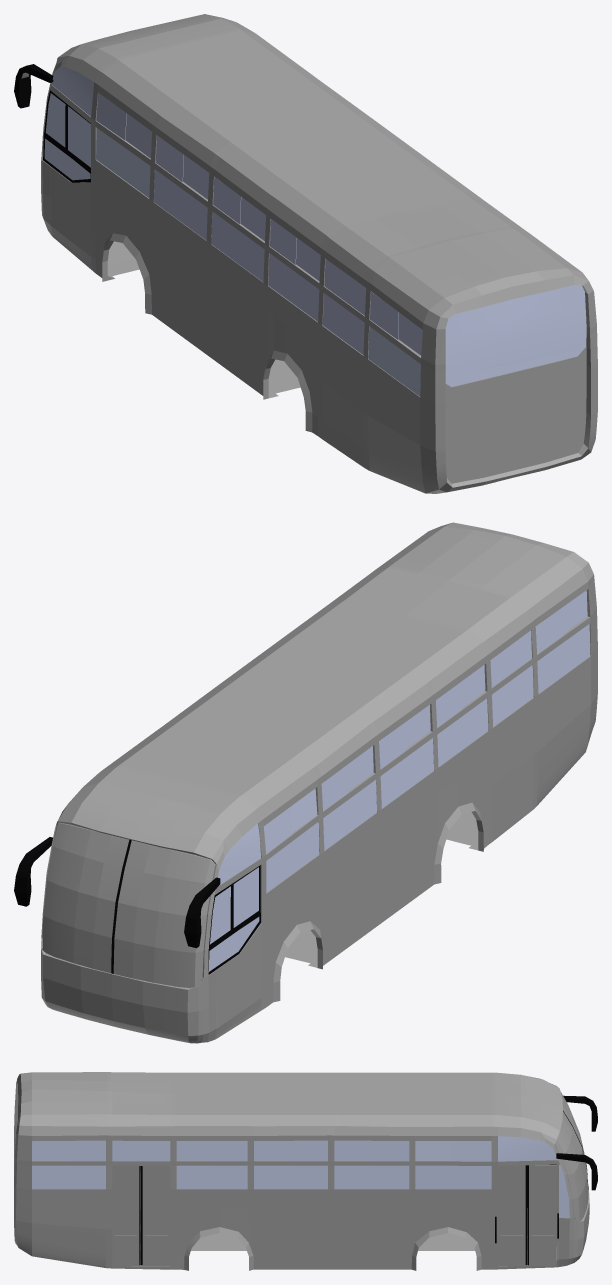
The model's file is Bus Low Poly - Prueba.fbx.
3 renders of one model, top to bottom at view 1: azimuth 30°, elevation 25°; view 2: azimuth 150°, elevation 25°; view 3: azimuth 270°, elevation 25°, orthographic. The views are drawn at different scales.
Visible parts, largest first — view 1: polySurface3, pasted__PT2, pasted__VL_6, pasted__VL_9, pasted__VL_3, pasted__VL_16, pasted__VL_12, pasted__VL_23, pasted__VL_2, pasted__VL_22, pasted__VC_2, pasted__VL_4 (+12 smaller); view 2: polySurface3, polySurface12, polySurface8, pasted__Retrovisor, pasted__VL_6, pasted__VL_9, pasted__VL_16, pasted__VL_3, pasted__VL_12, pasted__VL_23, pasted__VL_2, pasted__VL_22 (+11 smaller); view 3: polySurface3, pCube4 (×2), pCube5 (×2), pCube2 (×2), pCube3 (×2), pasted__VL_6, pasted__VL_3, pasted__VL_9, pasted__VL_16, polySurface8, pasted__VL_12, pasted__VL_2 (+13 smaller).
Part boxes in pixels (<box>): polySurface3: <box>41,14,597,493</box>; pasted__PT2: <box>445,285,586,386</box>; pasted__VL_6: <box>154,169,207,240</box>; pasted__VL_9: <box>211,211,264,281</box>; pasted__VL_3: <box>96,128,150,197</box>; pasted__VL_16: <box>368,326,420,396</box>; pasted__VL_12: <box>268,253,319,321</box>; pasted__VL_23: <box>323,293,364,354</box>; pasted__VL_2: <box>52,66,93,116</box>; pasted__VL_22: <box>324,259,366,315</box>; pasted__VC_2: <box>68,106,90,167</box>; pasted__VL_4: <box>96,93,126,140</box>; polySurface3: <box>41,522,597,1043</box>; polySurface12: <box>113,840,215,987</box>; polySurface8: <box>42,822,129,973</box>; pasted__Retrovisor: <box>14,837,220,948</box>; pasted__VL_6: <box>323,780,376,850</box>; pasted__VL_9: <box>380,738,433,808</box>; pasted__VL_16: <box>537,624,590,693</box>; pasted__VL_3: <box>266,822,319,892</box>; pasted__VL_12: <box>437,698,488,766</box>; pasted__VL_23: <box>492,665,533,726</box>; pasted__VL_2: <box>218,823,260,885</box>; pasted__VL_22: <box>490,630,531,687</box>; polySurface3: <box>14,1072,589,1270</box>; pCube4 (×2): <box>145,1169,554,1235</box>; pCube5 (×2): <box>114,1169,523,1235</box>; pCube2 (×2): <box>142,1165,556,1266</box>; pCube3 (×2): <box>112,1165,525,1266</box>; pasted__VL_6: <box>334,1165,409,1188</box>; pasted__VL_3: <box>415,1165,491,1188</box>; pasted__VL_9: <box>254,1165,327,1188</box>; pasted__VL_16: <box>32,1165,105,1188</box>; polySurface8: <box>555,1111,588,1221</box>; pasted__VL_12: <box>176,1165,247,1188</box>; pasted__VL_2: <box>498,1136,557,1161</box>.
Size of the model in its own units: 5 by 5.55 by 19.49.
